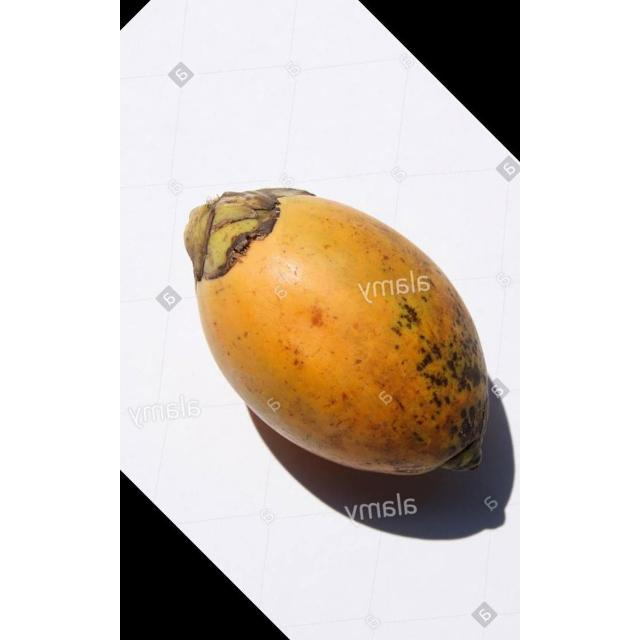good: (184, 188, 492, 478)
